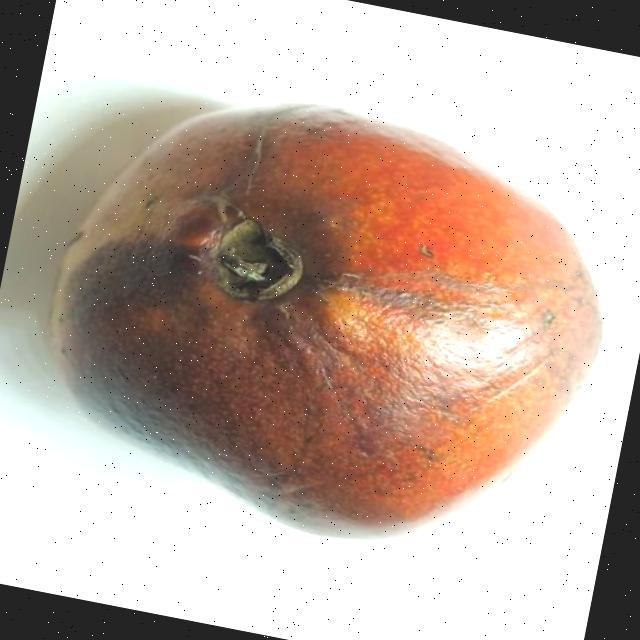overripe: (11, 56, 640, 589)
